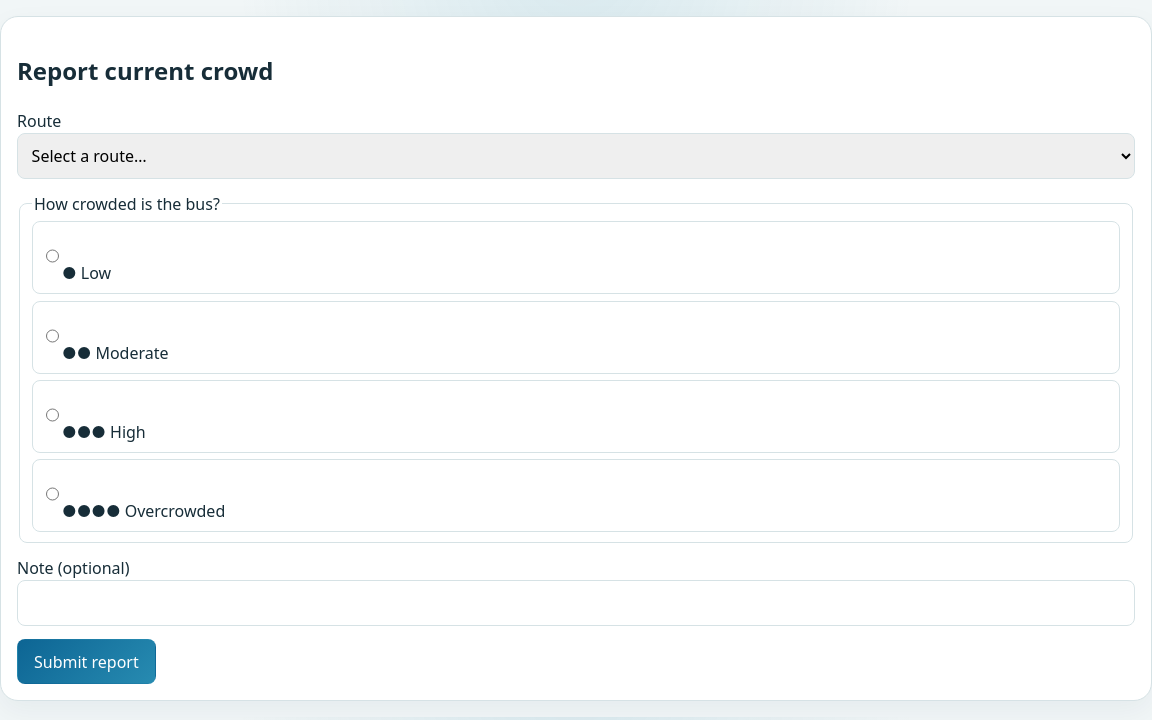
crowd reporting interface › requires a route and a level before submitting
This screenshot has width=1152, height=720.
Click the button "Submit report" at (86, 662), box [17,639,156,684]
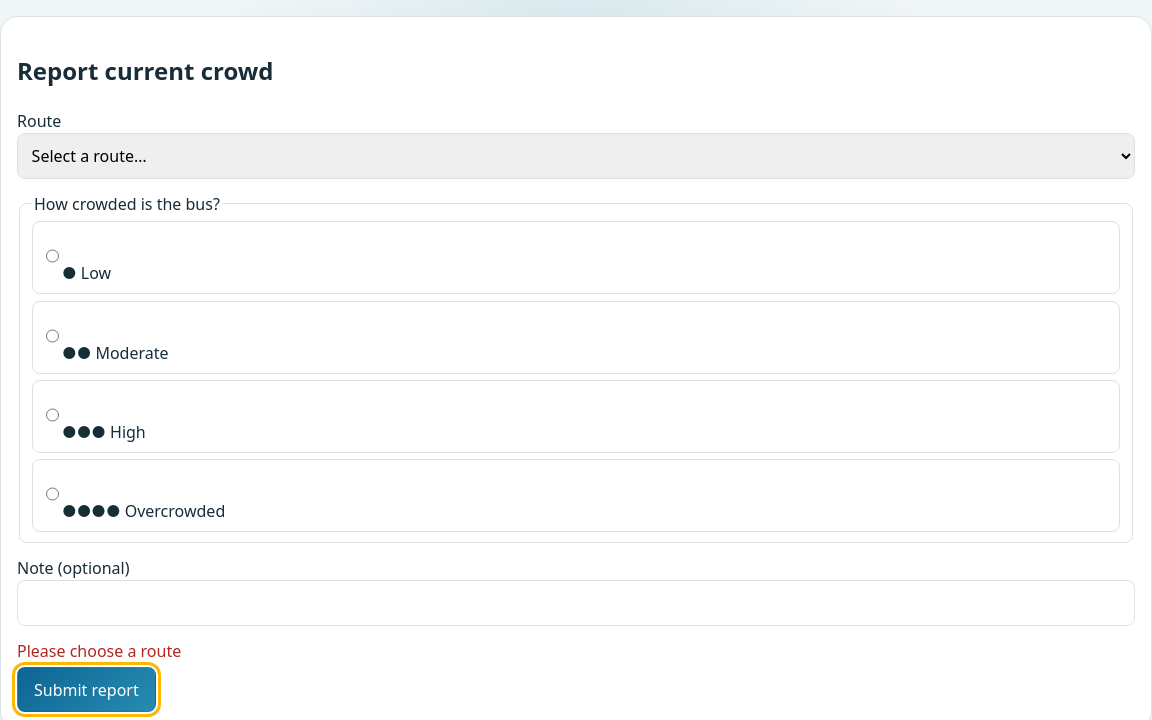
Expected: the text "Please choose a route" is shown, [17,640,181,662]
Select "SB-01 – City Bus Stand - Chamundi Hill" in the dropdown labelled "Route" at (576, 156), box [17,133,1135,179]
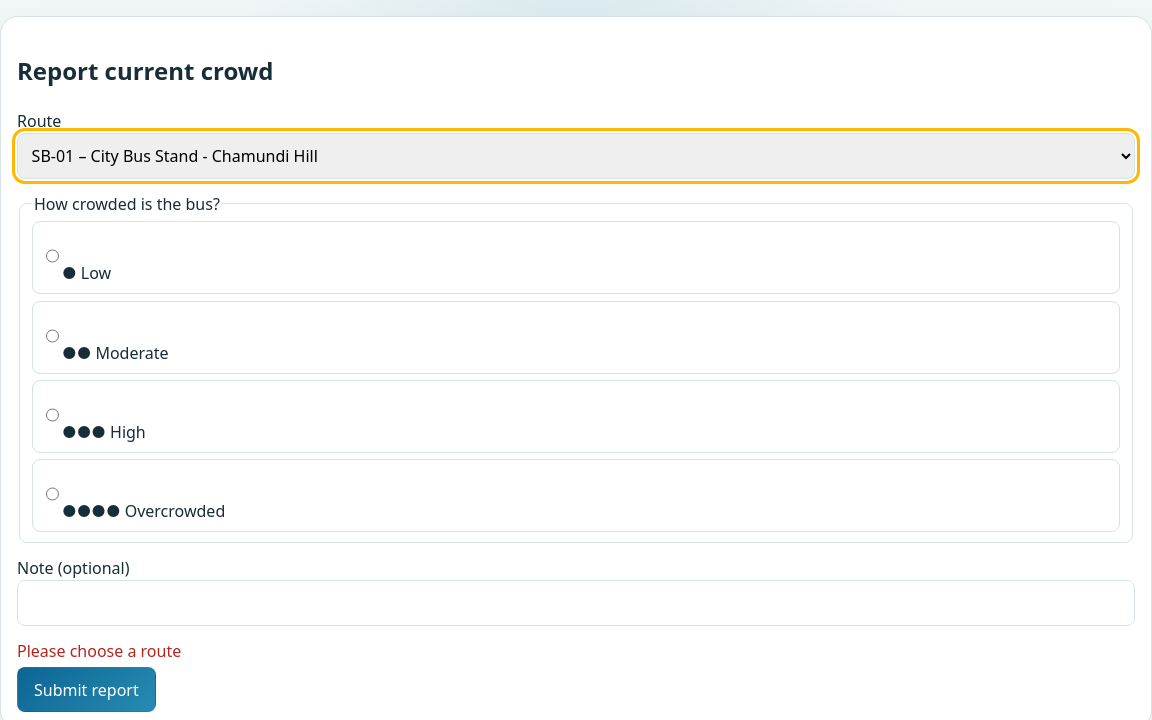
Click the button "Submit report" at (86, 690), box [17,667,156,712]
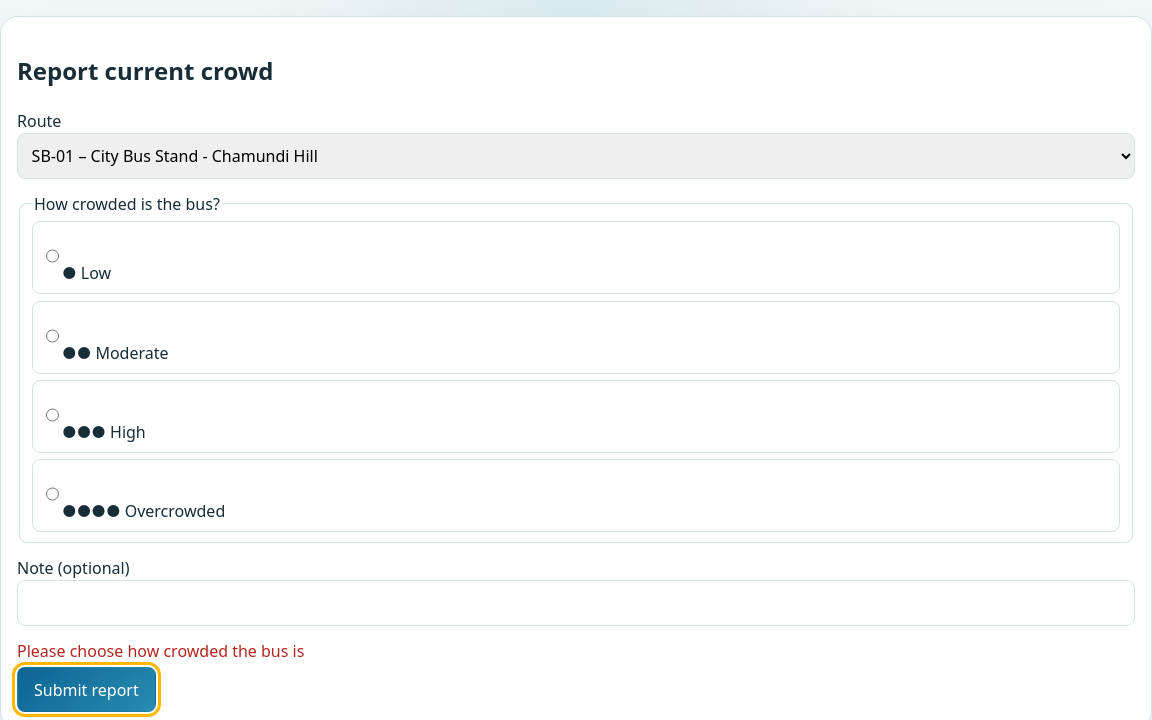
Expected: the text "Please choose how crowded the bus is" is shown, [17,640,304,662]
